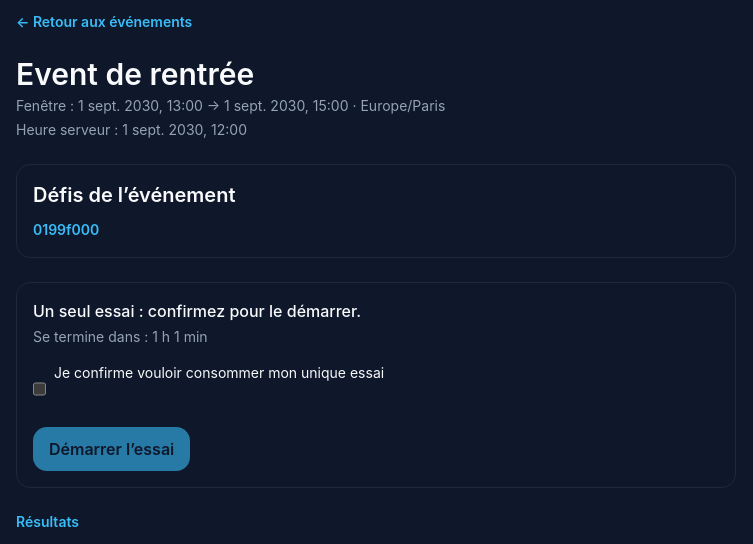
Test case: événements à essai unique (T172/T173) › exige une confirmation explicite avant de consommer l’essai
Expected: the heading "Event de rentrée" is shown, [16,56,254,92]
Expected: the button "Démarrer l’essai" is disabled, [33,427,190,471]
Step 1. Click the checkbox → (40, 389), box [33,367,46,411]
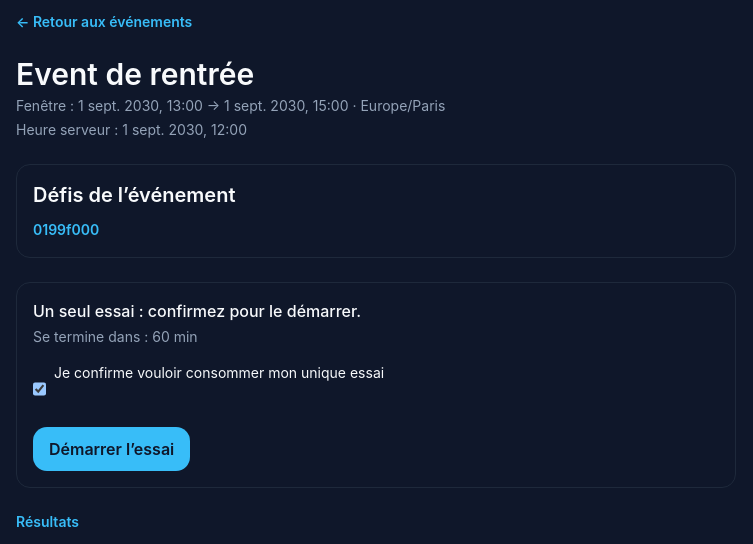
Result: the button "Démarrer l’essai" is enabled
Step 2. Click the button "Démarrer l’essai" → (112, 449), box [33,427,190,471]
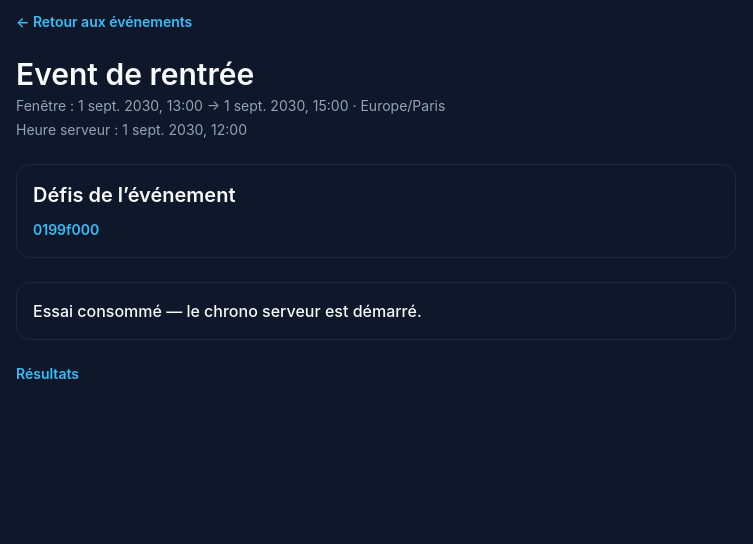
Result: the text "Essai consommé — le chrono serveur est démarré." is shown at [33,301,422,321]
